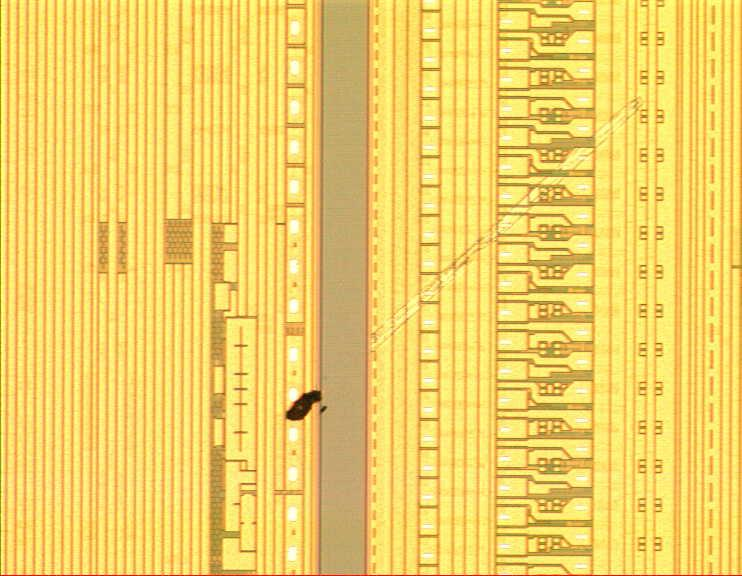SCRATCH: (286, 90, 651, 430)
